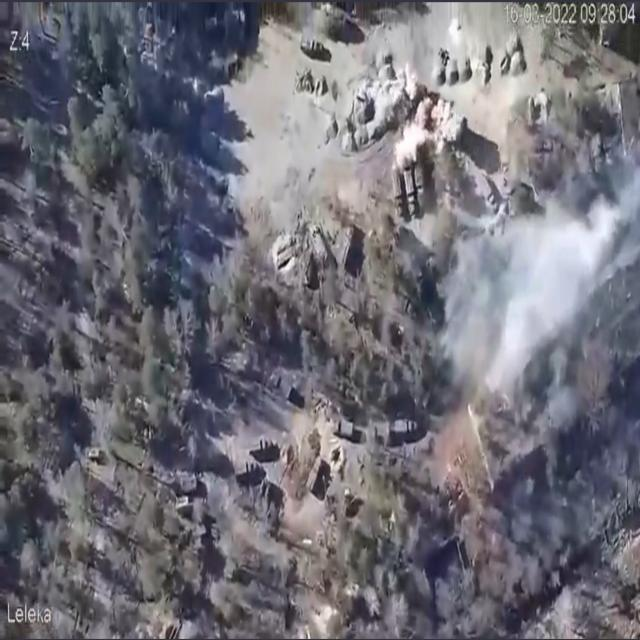cars: (250, 438, 280, 462), (235, 460, 264, 484), (306, 456, 324, 492), (391, 171, 405, 216), (403, 171, 417, 214), (395, 420, 417, 437), (333, 421, 353, 439), (415, 169, 422, 199)
